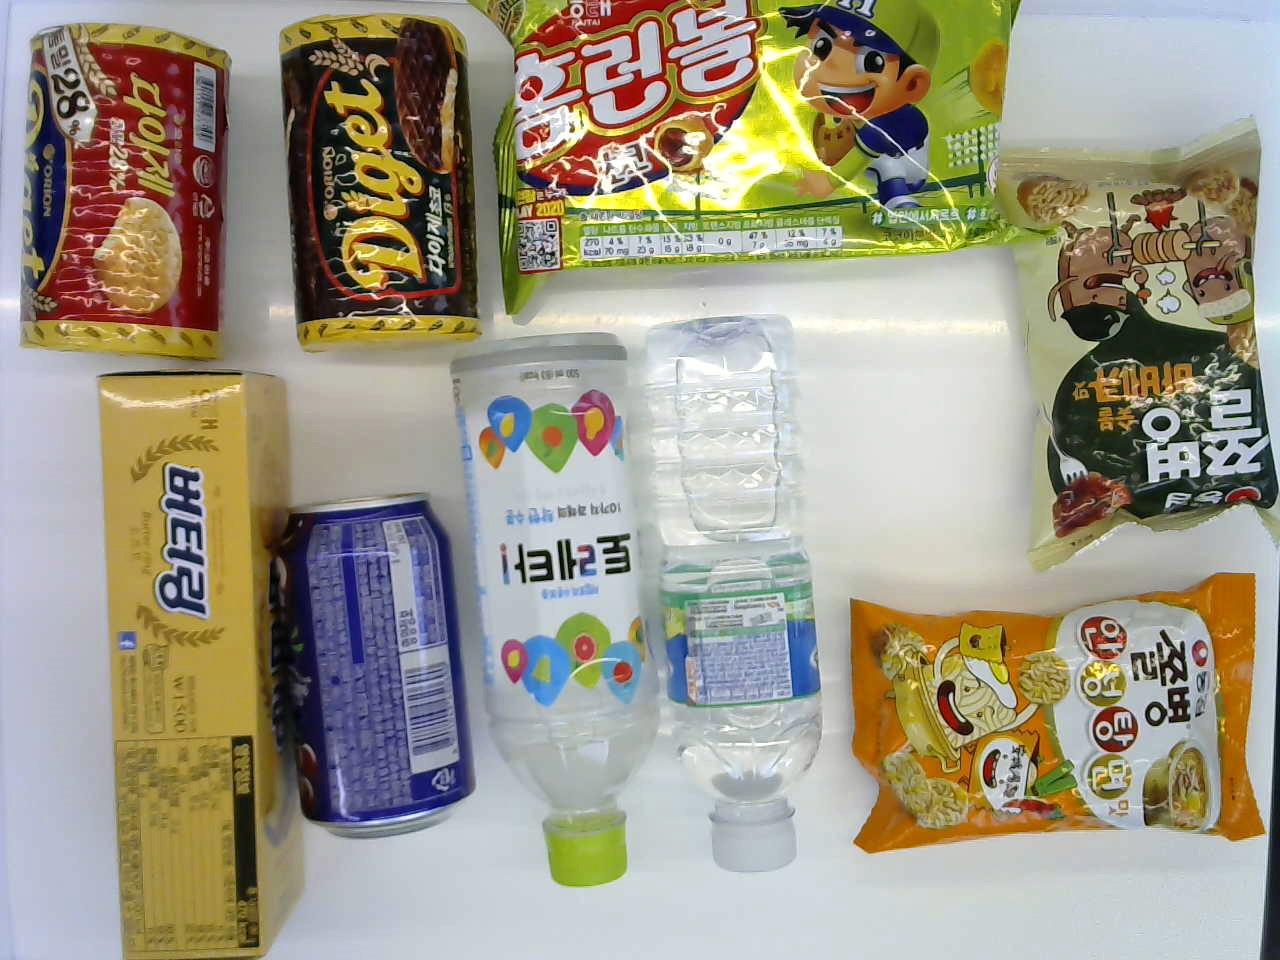buttering: (99, 367, 302, 956)
diget_choco: (266, 2, 484, 360)
diget_ori: (12, 7, 230, 365)
homerunball: (487, 0, 1039, 264)
jjolbyung_noodle: (851, 576, 1267, 859)
jjolbyung_ori: (1010, 127, 1279, 591)
samdasu: (647, 310, 848, 878)
toreta: (457, 330, 658, 897)
welchs: (261, 488, 479, 845)
